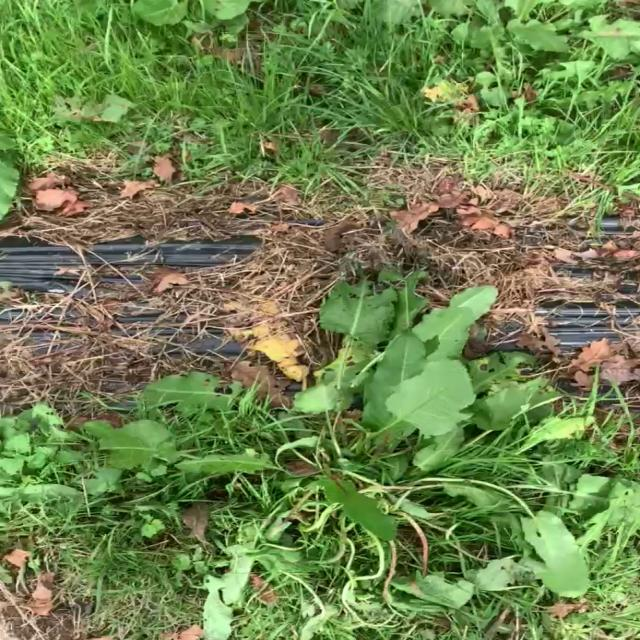organic waste: (102, 239, 640, 640), (362, 0, 640, 113), (91, 0, 296, 42)
